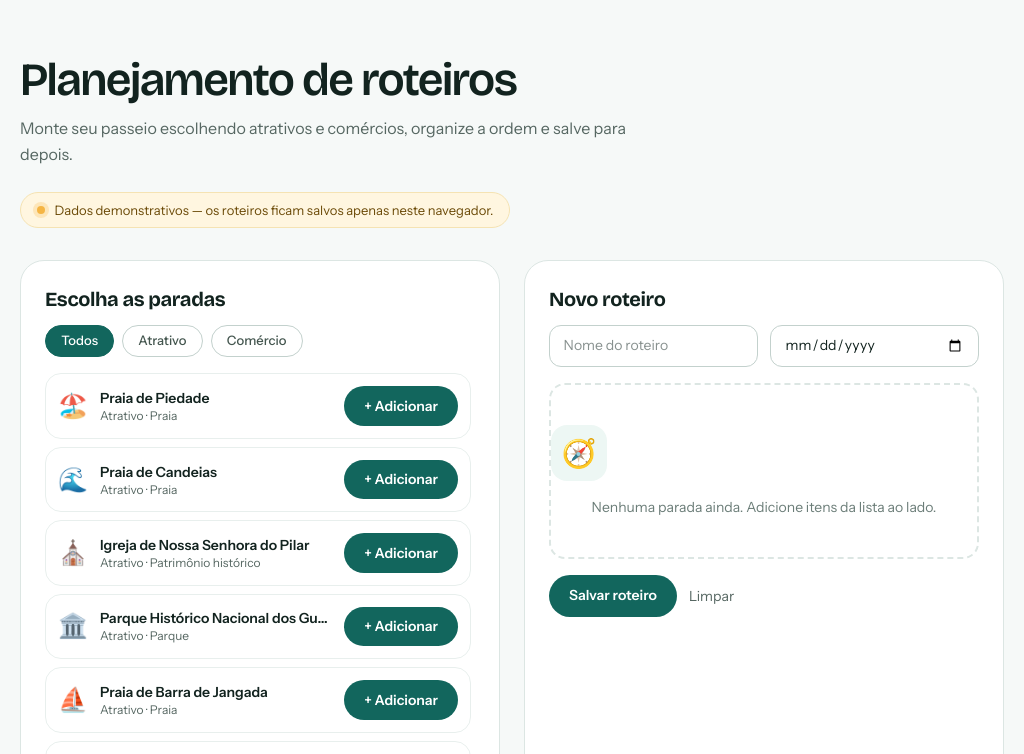
Test case: Tela de Roteiros › não salva um roteiro sem nome
The image size is (1024, 754).
Click the button "Salvar roteiro" at (613, 596), box [549, 575, 677, 617]
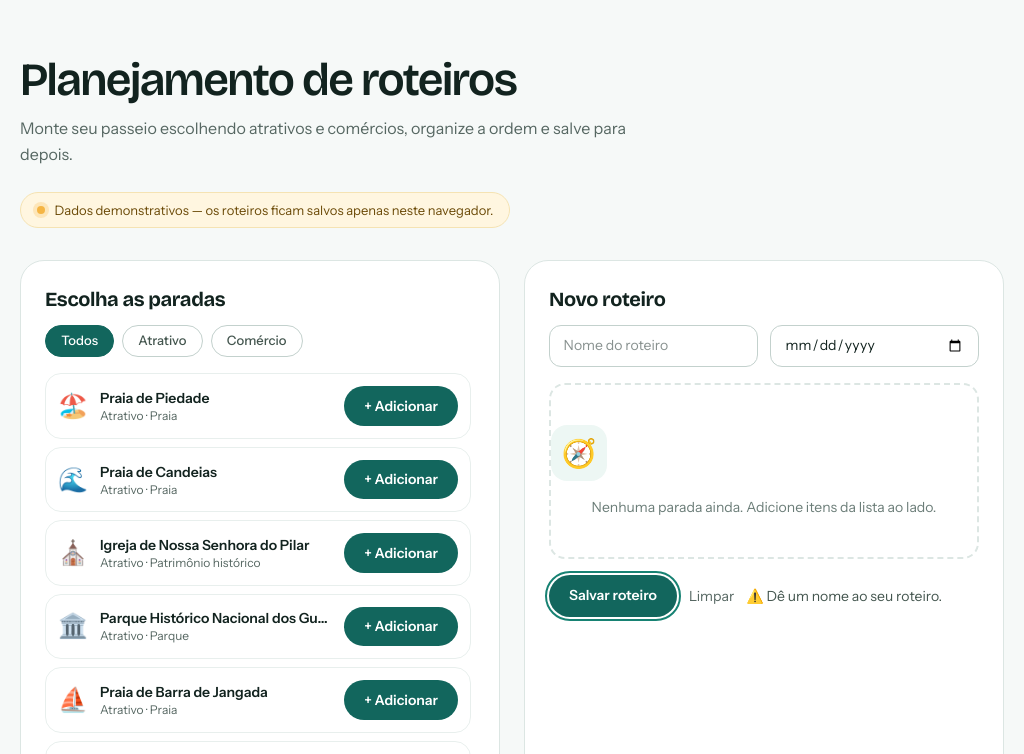
expect the text "⚠️ Dê um nome ao seu roteiro." is shown: met, box [746, 586, 942, 606]
